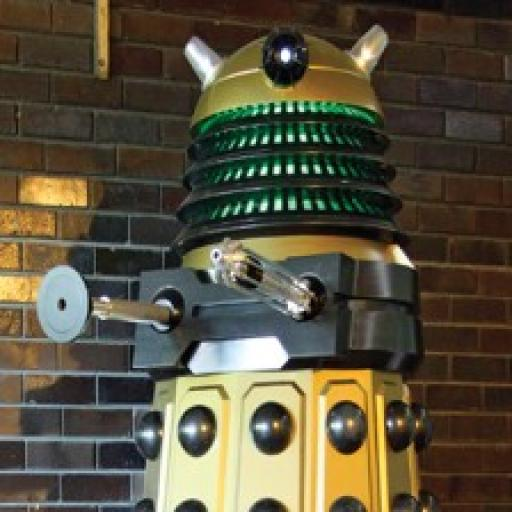dalek: (34, 20, 441, 512)
